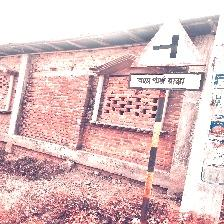Side-road-left: (128, 19, 209, 92)
